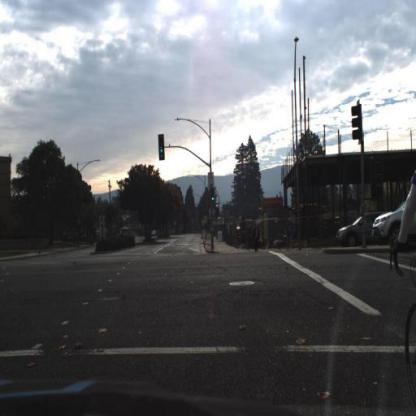biker: (386, 144, 416, 407), (389, 164, 416, 408)
car: (374, 192, 416, 246), (335, 207, 380, 248)
pedestrian: (285, 211, 304, 258), (287, 216, 297, 252), (252, 219, 261, 254)
trafficLight-Green: (156, 127, 170, 172), (207, 181, 217, 213), (158, 133, 167, 162), (211, 184, 216, 203)
